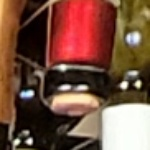bottle: (27, 52, 127, 131)
